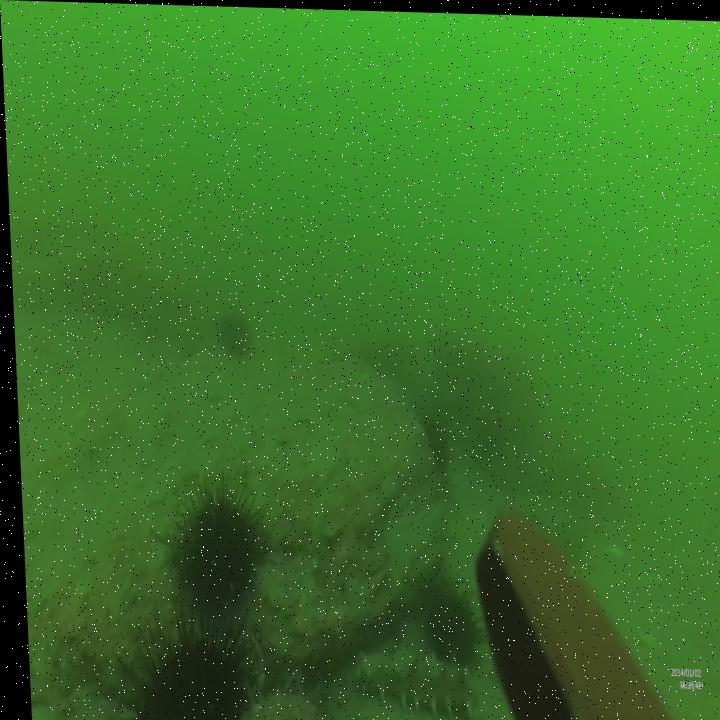echinus: (101, 608, 252, 720), (151, 480, 253, 593), (415, 569, 478, 652), (211, 310, 245, 360)
holothurian: (344, 643, 475, 720)
